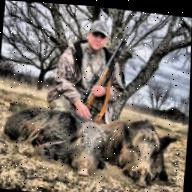boar: (11, 90, 112, 190), (94, 106, 179, 192)
